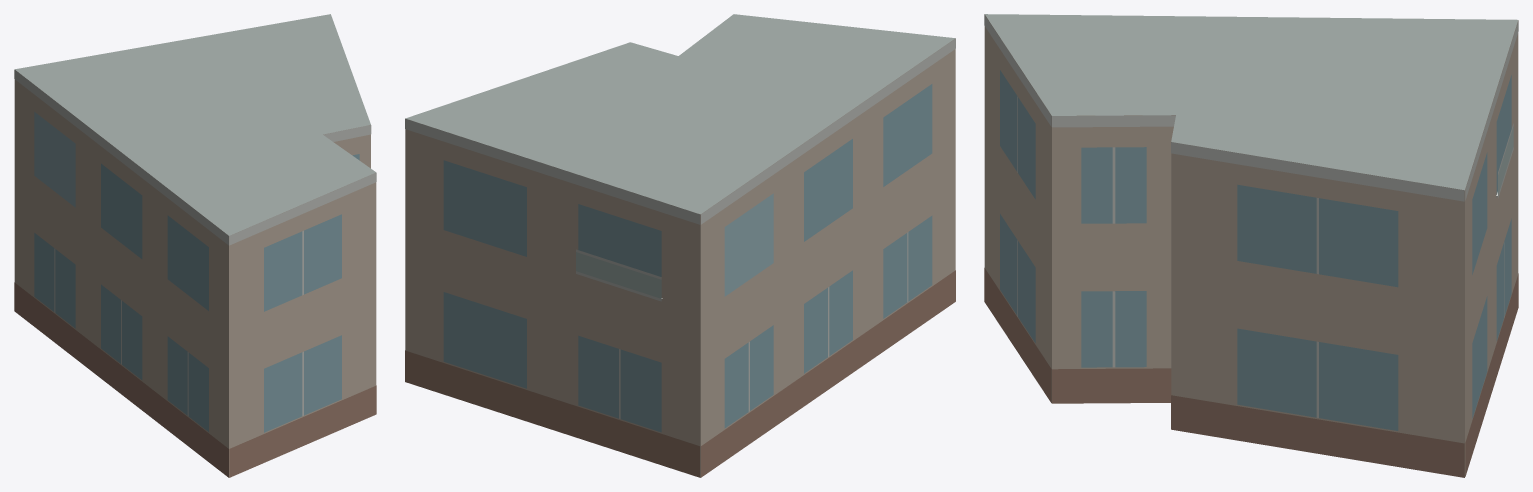
The model's file is survey-upis-32505823.glb.
3 renders of one model, left to right at view 1: azimuth 30°, elevation 25°; view 2: azimuth 150°, elevation 25°; view 3: azimuth 270°, elevation 25°, orthographic. The views are drawn at different scales.
Visible parts, largest first — view 1: survey-upis-32505823.tmp; view 2: survey-upis-32505823.tmp; view 3: survey-upis-32505823.tmp.
Part boxes in pixels (box(x1,y1,x2,y2)): survey-upis-32505823.tmp: box(14, 14, 376, 477); survey-upis-32505823.tmp: box(405, 14, 955, 477); survey-upis-32505823.tmp: box(984, 14, 1518, 477).
Size of the model in its own units: 8.02 by 6.1 by 10.27.
